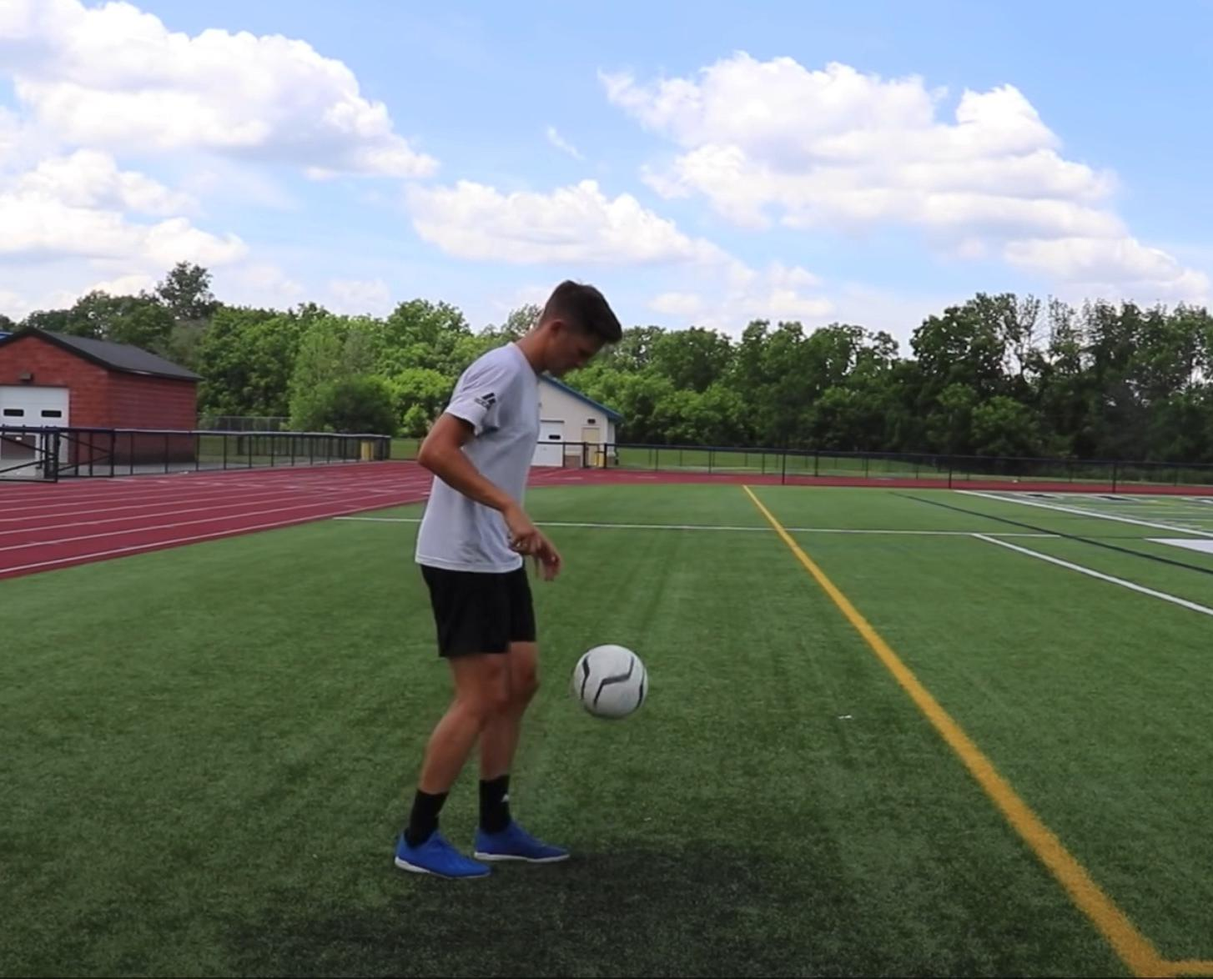ball: (573, 646, 649, 721)
foot: (468, 822, 571, 868), (392, 831, 488, 880)
person: (395, 279, 623, 880)
